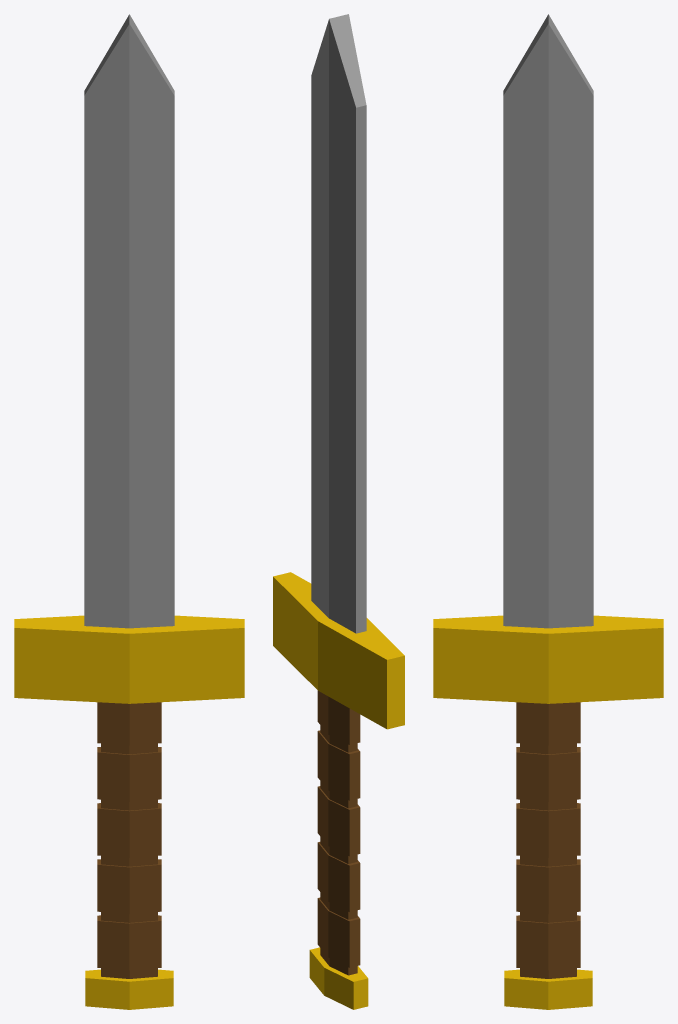
Rendered from Sward.glb.
3 renders of one model, left to right at view 1: azimuth 90°, elevation 25°; view 2: azimuth 210°, elevation 25°; view 3: azimuth 270°, elevation 25°, orthographic.
Parts seen in each view (by area): view 1: Cube; view 2: Cube; view 3: Cube.
Part boxes in pixels (<box>): Cube: <box>14,14,244,1009</box>; Cube: <box>273,14,404,1009</box>; Cube: <box>433,14,663,1009</box>.
Bounding box in the file's own units: 1.26 × 28.07 × 5.95.
1 material, 1 textured.
